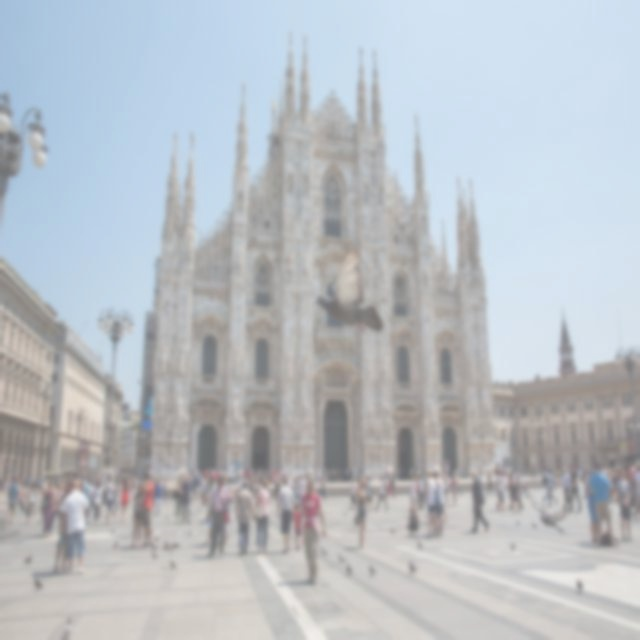pessoa: (298, 476, 326, 584), (588, 460, 620, 547), (60, 479, 88, 575), (206, 476, 234, 558), (54, 479, 74, 574), (150, 394, 190, 438), (234, 478, 256, 556), (276, 476, 296, 554), (280, 400, 314, 440), (616, 467, 634, 542), (360, 403, 394, 442), (470, 469, 490, 534), (254, 479, 270, 556), (140, 471, 155, 549), (424, 468, 440, 538), (466, 402, 494, 442), (203, 473, 218, 547), (221, 473, 236, 545), (130, 482, 146, 548), (586, 469, 600, 544), (354, 477, 368, 550), (430, 471, 445, 536), (39, 478, 55, 538), (502, 472, 524, 514), (226, 397, 246, 441), (48, 482, 64, 536), (116, 478, 134, 522), (626, 460, 640, 516), (567, 463, 582, 512), (558, 466, 574, 511), (6, 475, 20, 525), (422, 404, 440, 442), (508, 469, 524, 510), (104, 474, 116, 525), (172, 475, 184, 524), (24, 480, 37, 524), (374, 474, 388, 512), (240, 466, 280, 479), (182, 474, 192, 525), (110, 477, 122, 517), (546, 467, 558, 507), (39, 478, 49, 524), (632, 464, 640, 520), (83, 476, 92, 524), (406, 506, 420, 536), (86, 478, 96, 518), (154, 477, 164, 517), (294, 501, 302, 551), (92, 480, 101, 524), (541, 466, 551, 505), (191, 467, 202, 502), (324, 369, 346, 386), (496, 468, 504, 512), (500, 469, 508, 512), (408, 475, 417, 513), (393, 467, 415, 482), (299, 473, 307, 511), (417, 472, 425, 510), (450, 470, 458, 508), (519, 471, 529, 498), (384, 472, 394, 499), (414, 474, 421, 512), (484, 471, 494, 497), (127, 474, 137, 500), (349, 477, 357, 509), (442, 474, 450, 506), (18, 476, 32, 494), (53, 476, 74, 488), (602, 464, 620, 478), (152, 478, 159, 513), (203, 475, 210, 510), (202, 466, 226, 476), (366, 475, 372, 511), (292, 476, 300, 502), (582, 466, 588, 500), (455, 472, 463, 497), (366, 478, 372, 511), (274, 478, 282, 502), (0, 474, 10, 492), (162, 477, 168, 504), (608, 478, 618, 494), (201, 478, 206, 509), (204, 498, 210, 523), (332, 468, 342, 482), (623, 464, 630, 484), (113, 472, 127, 482), (80, 475, 88, 492), (607, 493, 619, 504), (316, 466, 322, 487), (358, 467, 368, 479), (202, 410, 214, 420), (34, 474, 41, 490), (322, 478, 327, 500), (390, 476, 396, 494), (531, 462, 537, 480), (414, 472, 420, 489), (382, 476, 387, 496), (256, 412, 266, 422), (228, 501, 232, 525), (288, 477, 296, 489), (119, 483, 123, 506), (329, 469, 334, 487), (248, 478, 253, 494), (477, 472, 482, 488), (136, 474, 146, 482), (422, 479, 427, 495), (554, 470, 564, 478), (444, 415, 452, 425), (296, 466, 302, 479), (422, 466, 428, 479), (238, 478, 244, 490), (234, 468, 238, 486), (440, 472, 446, 484), (354, 479, 360, 491), (322, 468, 329, 478), (384, 468, 389, 482), (304, 467, 308, 484), (281, 466, 284, 488), (227, 476, 232, 489), (256, 478, 260, 494), (302, 429, 310, 437), (402, 415, 409, 424), (578, 468, 582, 483), (209, 476, 213, 490), (364, 478, 368, 492), (416, 490, 420, 504), (232, 428, 239, 436), (384, 430, 391, 438), (325, 478, 328, 496), (286, 428, 292, 437), (301, 467, 305, 480), (308, 470, 313, 480), (150, 476, 156, 484), (181, 468, 184, 484), (508, 472, 510, 496), (436, 512, 439, 528), (479, 464, 482, 479), (349, 468, 352, 482), (456, 466, 460, 476), (268, 478, 273, 486), (252, 479, 256, 489), (283, 466, 287, 476), (632, 486, 637, 494), (163, 476, 168, 484), (494, 463, 498, 472), (518, 487, 521, 499), (258, 478, 262, 486), (346, 467, 348, 482), (95, 477, 101, 482), (634, 458, 637, 467), (187, 468, 191, 474), (316, 470, 318, 482), (318, 478, 321, 486), (566, 470, 572, 474), (636, 458, 640, 464), (298, 477, 302, 482), (247, 478, 250, 484), (204, 477, 207, 482), (502, 464, 504, 469)
